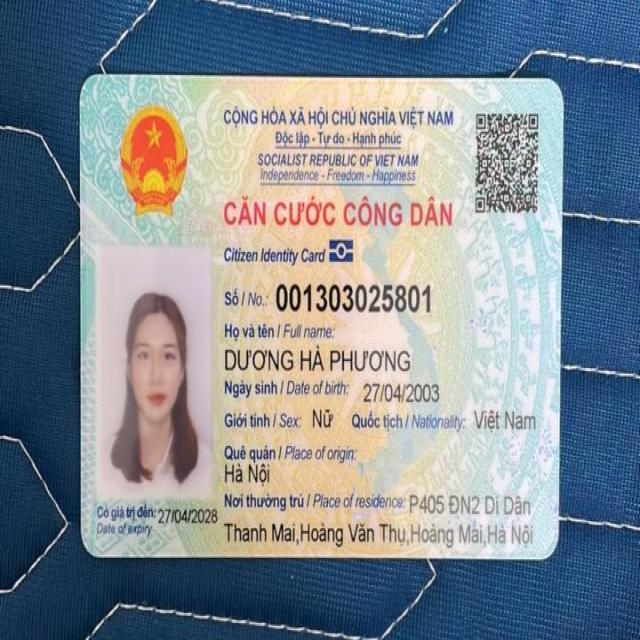bottom_left: (71, 524, 113, 568)
bottom_right: (529, 527, 566, 573)
image_person: (92, 246, 217, 500)
top_left: (67, 64, 105, 109)
top_right: (542, 70, 577, 106)
